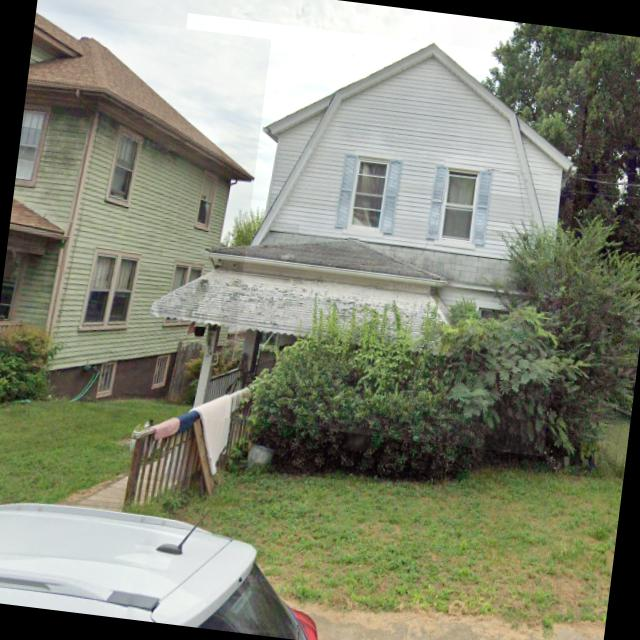House: (140, 12, 591, 456), (0, 10, 271, 421)
